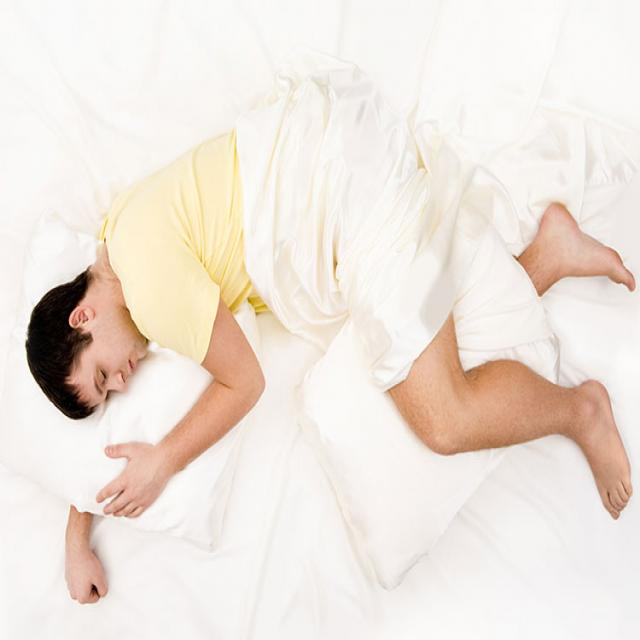people: (19, 54, 640, 611)
